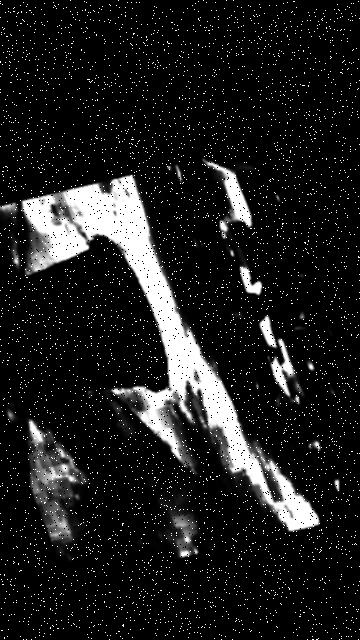pot: (11, 237, 166, 390)
